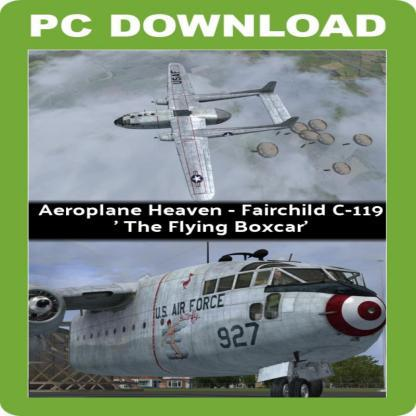CIV_Plane: (112, 62, 302, 196)
